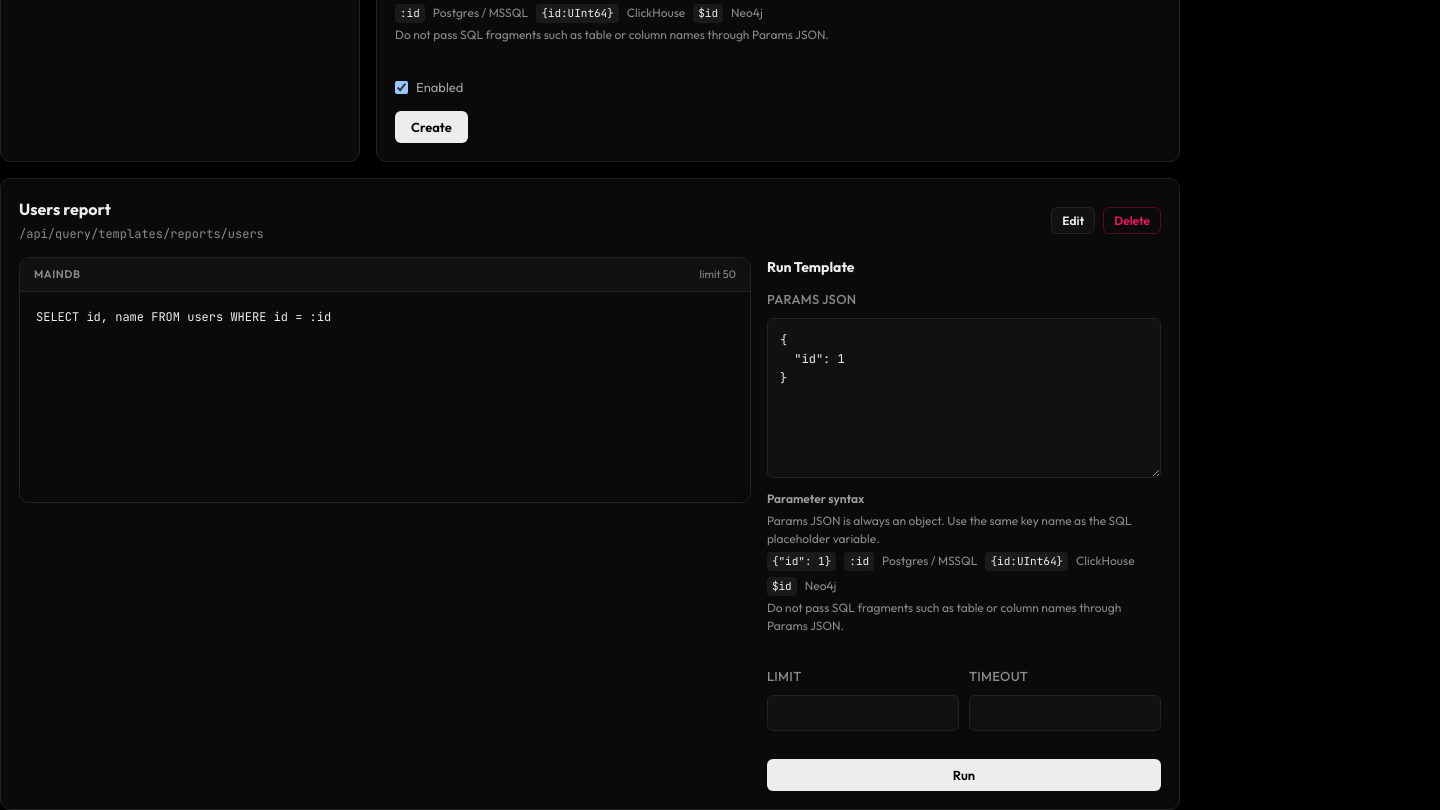
QueryTemplates › announces truncated template run results as an alert
(page scrolled)
Click the button "Run": point(964, 775) x1=767 y1=759 x2=1161 y2=791
(page scrolled)
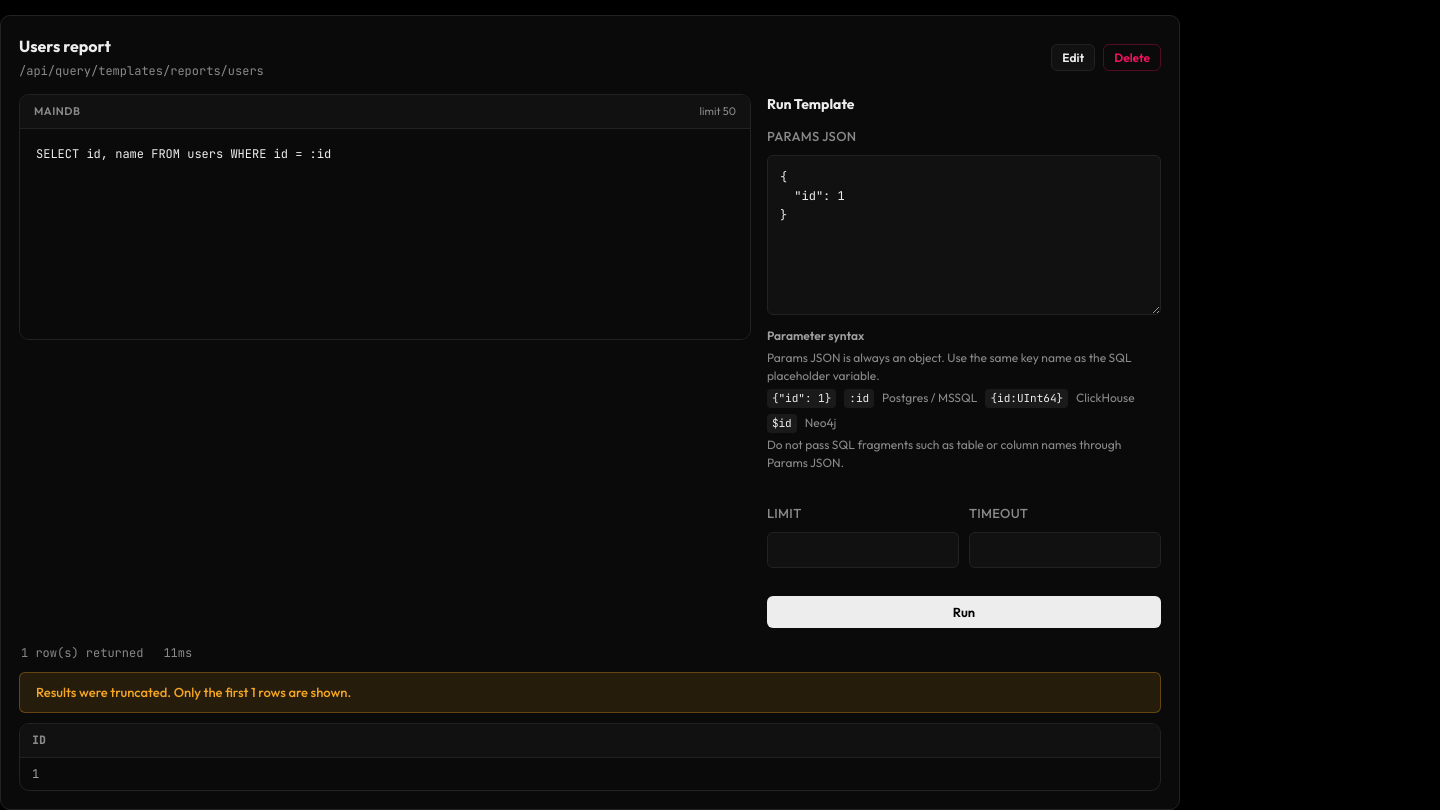
Expected: the message "Results were truncated. Only the first 1 rows are shown." is shown, x1=19 y1=672 x2=1161 y2=713
